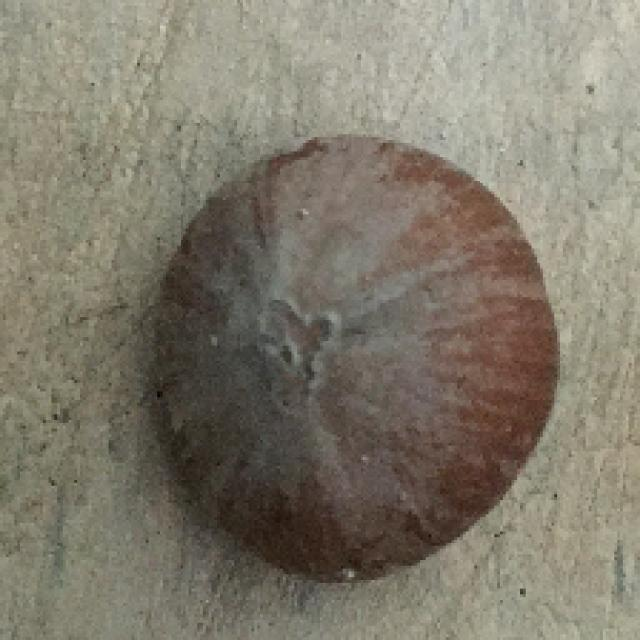qualityHazelnut: (149, 132, 561, 593)
